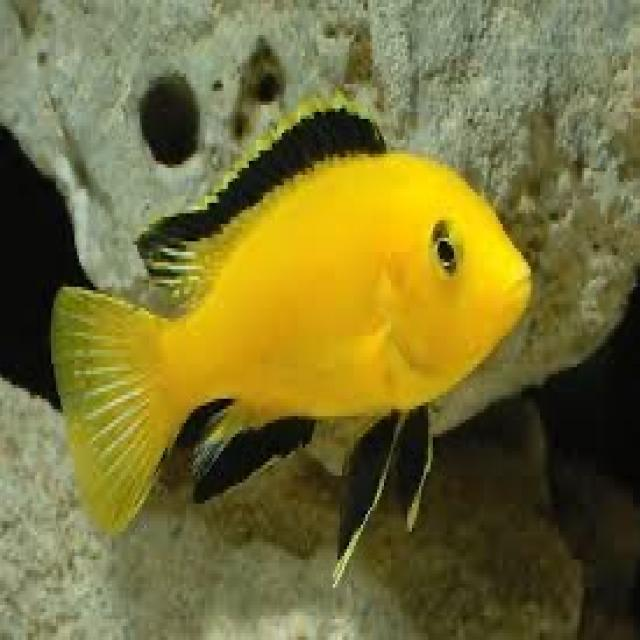YellowCichlid: (44, 92, 562, 584)
